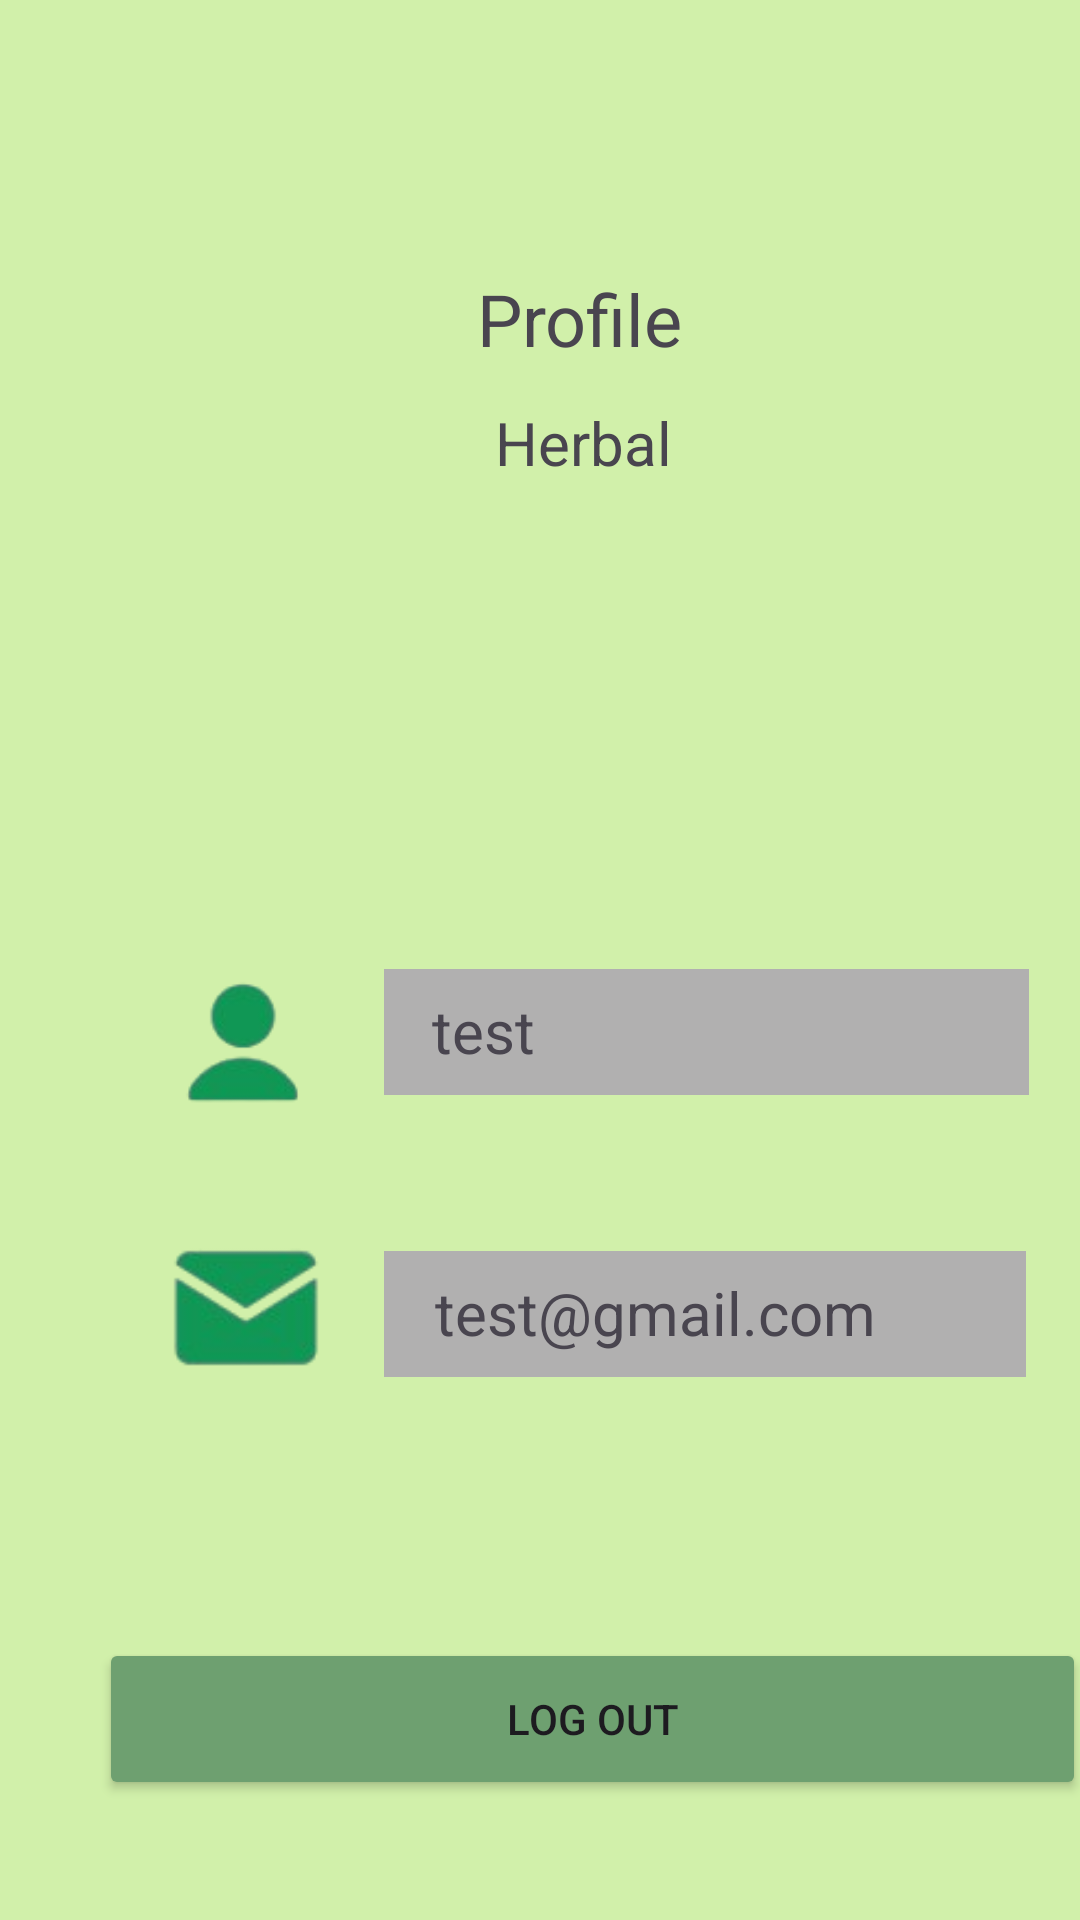

Icon click points for this 1080 x 1920 phone screenshot, format point (x, y):
email: point (246, 1308)
profile photoroom: point (243, 1043)
